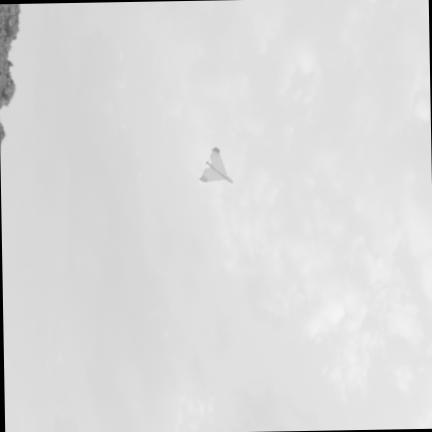Shahed: (198, 149, 232, 182)
